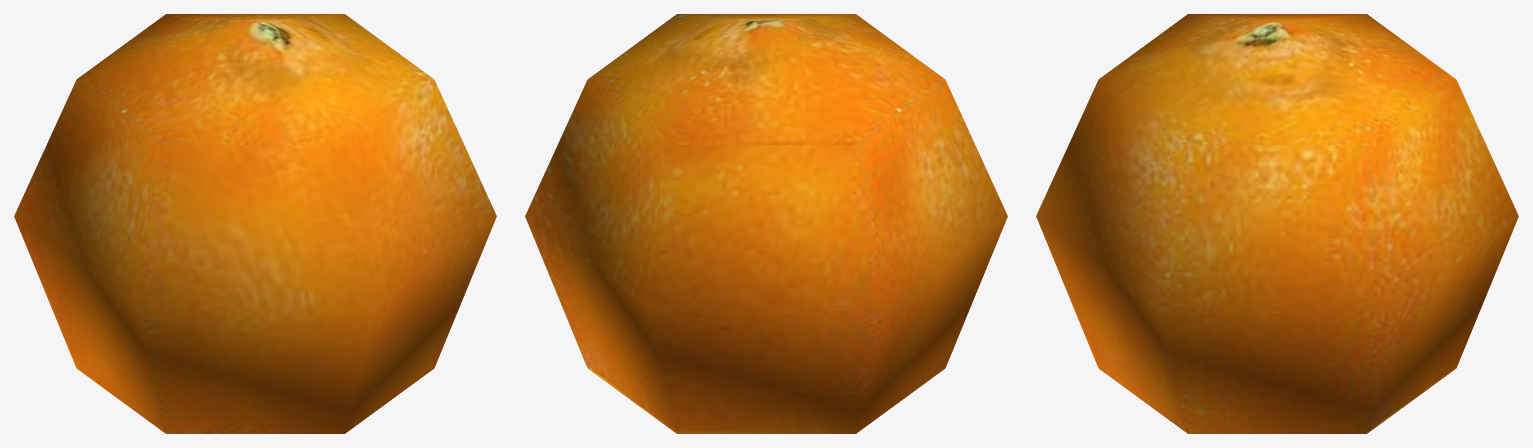
File: Orange.glb
3 views of the same model, side by side, from view 1: azimuth 30°, elevation 25°; view 2: azimuth 150°, elevation 25°; view 3: azimuth 270°, elevation 25° (orthographic).
Parts seen in each view (by area): view 1: Orange; view 2: Orange; view 3: Orange.
Boxes of the visible parts, x1,y1,x2,y2 form: Orange: [14, 14, 496, 433]; Orange: [525, 14, 1007, 433]; Orange: [1036, 14, 1518, 433].
Bounding box in the file's own units: 0.1274 × 0.1353 × 0.1471.
Materials: 1 (1 with a texture image).
